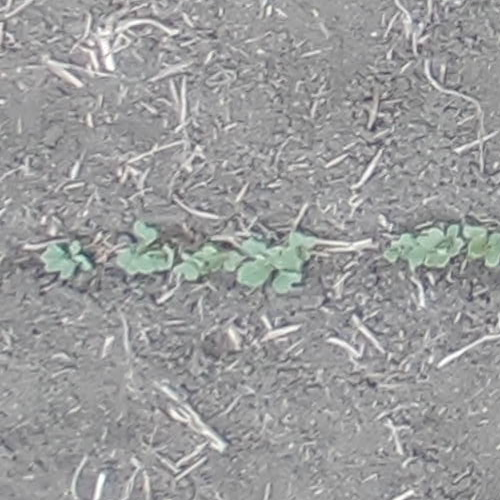plant: (225, 231, 318, 293), (387, 224, 465, 266), (116, 221, 171, 275), (38, 238, 94, 278), (175, 245, 223, 279), (465, 223, 499, 266)
